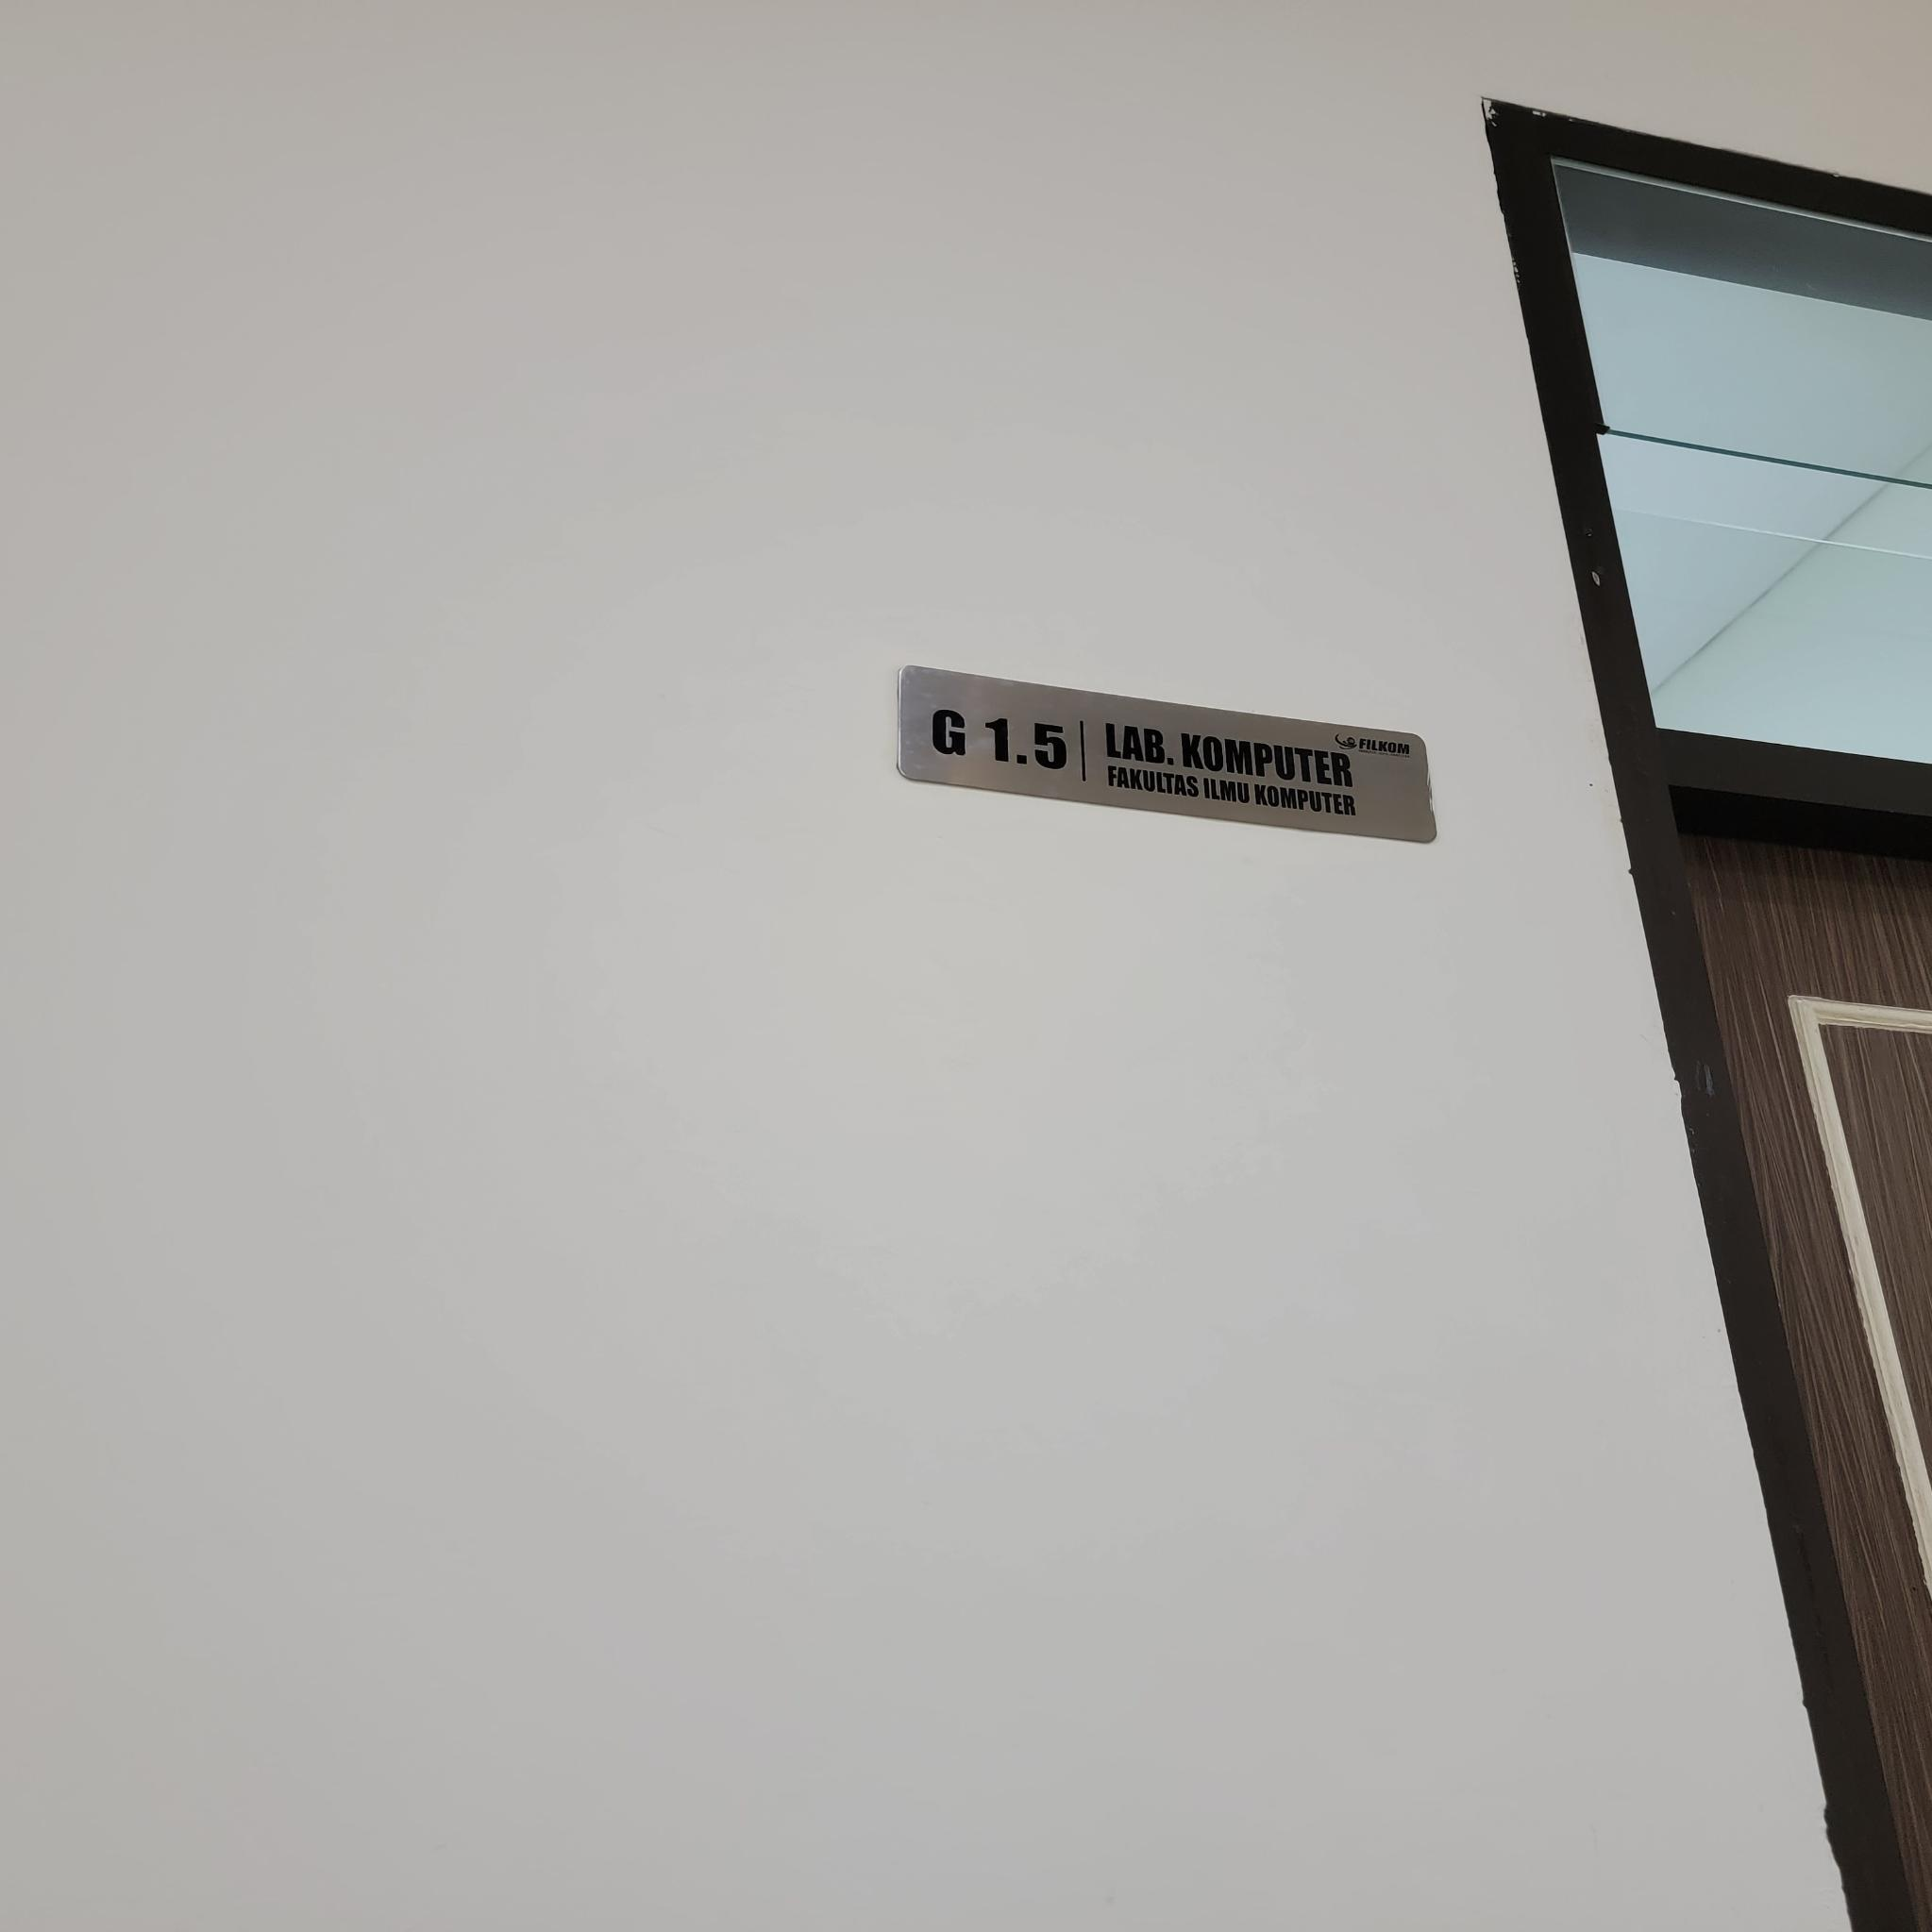plate: (897, 663, 1437, 846)
